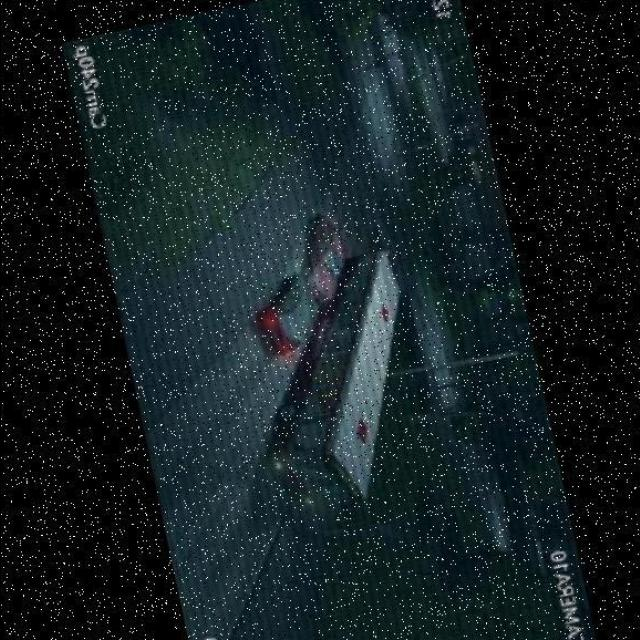accident: (227, 203, 369, 370)
